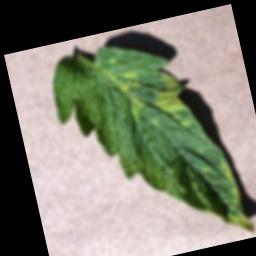Leaf_Mold: (144, 65, 188, 124), (103, 63, 143, 97)
